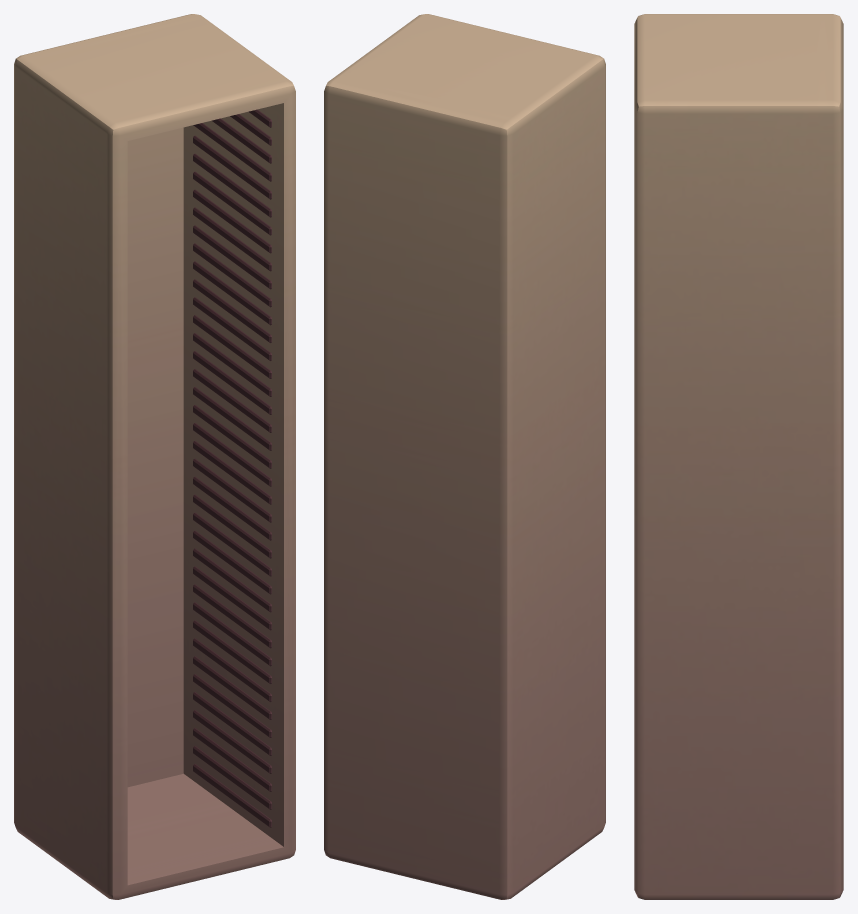
Rendered from SM_CDrack.fbx.
3 views of the same model, side by side, from view 1: azimuth 30°, elevation 25°; view 2: azimuth 150°, elevation 25°; view 3: azimuth 270°, elevation 25° (orthographic). The views are drawn at different scales.
Parts seen in each view (by area): view 1: SM_CDrack, SM_CDrack_shelves; view 2: SM_CDrack; view 3: SM_CDrack.
Boxes of the visible parts, box(x1,y1,x2,y2) form: SM_CDrack: box(14, 14, 295, 899); SM_CDrack_shelves: box(193, 109, 271, 827); SM_CDrack: box(324, 14, 605, 899); SM_CDrack: box(634, 14, 843, 899).
Size of the model in its own units: 24.15 by 95.29 by 22.59.
1 material, 1 textured.
